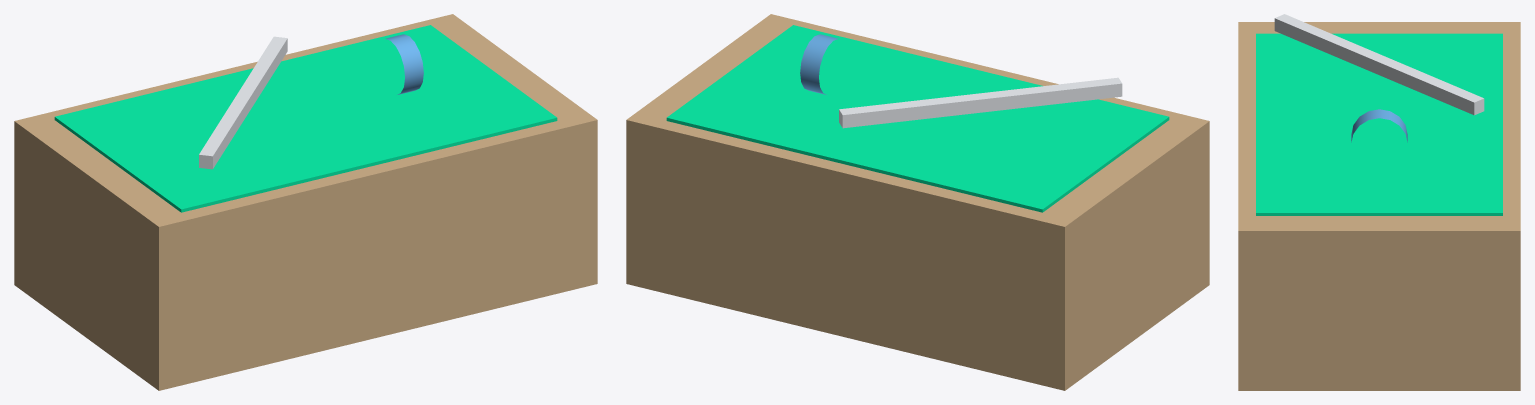
File: trapezoidal_simpson_earthwork_volume.glb
3 views of the same model, side by side, from view 1: azimuth 30°, elevation 25°; view 2: azimuth 150°, elevation 25°; view 3: azimuth 270°, elevation 25° (orthographic). The views are drawn at different scales.
Visible parts, largest first — view 1: RoadEmbankmentPrismoidCrossSection, IrregularAreaBoundaryGrid, PolarPlanimeterIntegratingArm, MeasuringWheelRevolutionCounter; view 2: RoadEmbankmentPrismoidCrossSection, IrregularAreaBoundaryGrid, PolarPlanimeterIntegratingArm, MeasuringWheelRevolutionCounter; view 3: RoadEmbankmentPrismoidCrossSection, IrregularAreaBoundaryGrid, PolarPlanimeterIntegratingArm, MeasuringWheelRevolutionCounter.
Part boxes in pixels (x1,y1,x2,y2): RoadEmbankmentPrismoidCrossSection: (14,14,597,390); IrregularAreaBoundaryGrid: (54,25,557,212); PolarPlanimeterIntegratingArm: (199,36,287,169); MeasuringWheelRevolutionCounter: (385,34,423,94); RoadEmbankmentPrismoidCrossSection: (626,14,1209,390); IrregularAreaBoundaryGrid: (666,25,1169,212); PolarPlanimeterIntegratingArm: (839,77,1122,128); MeasuringWheelRevolutionCounter: (800,34,838,94); RoadEmbankmentPrismoidCrossSection: (1238,22,1520,390); IrregularAreaBoundaryGrid: (1256,33,1502,215); PolarPlanimeterIntegratingArm: (1274,14,1484,115); MeasuringWheelRevolutionCounter: (1351,109,1407,142).
Bounding box in the file's own units: 1.4 × 0.68 × 0.8.
